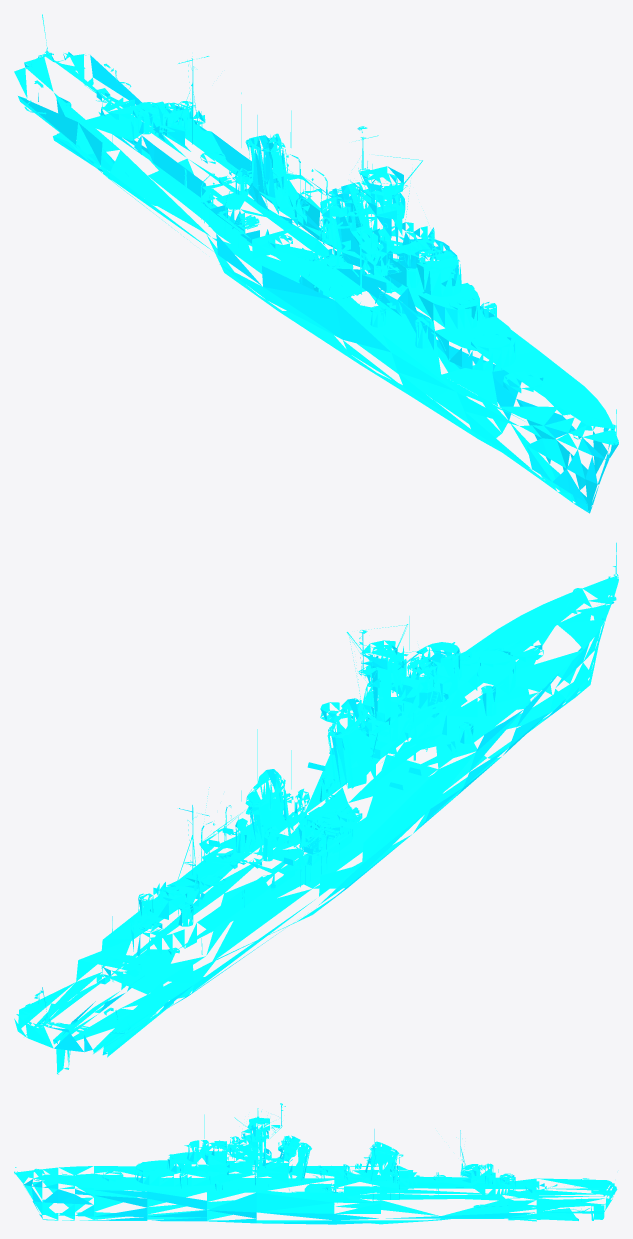
File: Pr_Udaloy.glb
3 views of the same model, one above another, from view 1: azimuth 30°, elevation 25°; view 2: azimuth 150°, elevation 25°; view 3: azimuth 270°, elevation 25° (orthographic). The views are drawn at different scales.
Size of the model in its own units: 0.815 by 1.65 by 7.76.
